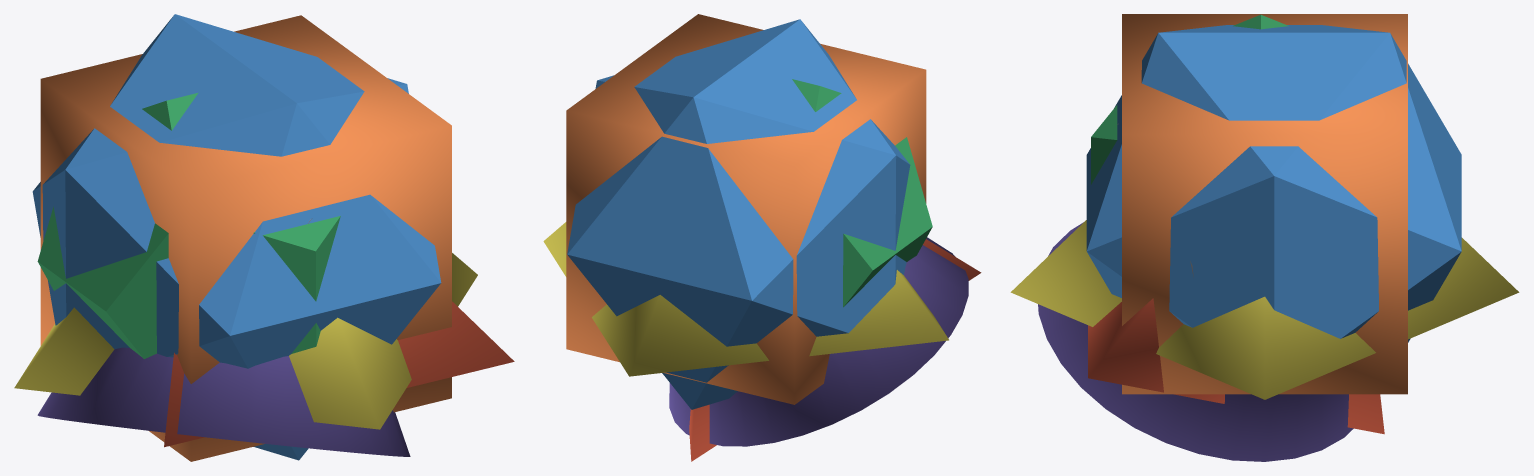
The model's file is buuss.glb.
3 renders of one model, left to right at view 1: azimuth 30°, elevation 25°; view 2: azimuth 150°, elevation 25°; view 3: azimuth 270°, elevation 25°, orthographic. The views are drawn at different scales.
Parts seen in each view (by area): view 1: AElias, Cube, Cone, ALucas, instance, Cone.001; view 2: AElias, Cube, Cone, ALucas, instance, Cone.001; view 3: AElias, Cube, ALucas, Cone, Cone.001, instance.
Boxes of the visible parts, box(x1,y1,x2,y2) form: AElias: box(32, 14, 441, 460); Cube: box(40, 15, 451, 461); Cone: box(37, 347, 410, 456); ALucas: box(14, 253, 477, 429); instance: box(37, 92, 340, 358); Cone.001: box(164, 301, 514, 447); AElias: box(567, 19, 910, 409); Cube: box(566, 14, 926, 404); Cone: box(669, 237, 968, 446); ALucas: box(543, 222, 948, 376); instance: box(792, 79, 932, 307); Cone.001: box(689, 239, 981, 461); AElias: box(1086, 25, 1461, 342); Cube: box(1122, 14, 1407, 394); ALucas: box(1010, 220, 1519, 399); Cone: box(1038, 222, 1353, 461); Cone.001: box(1088, 298, 1384, 434); instance: box(1091, 14, 1288, 184).
Bounding box in the file's own units: 2.29 × 1.98 × 2.29.
